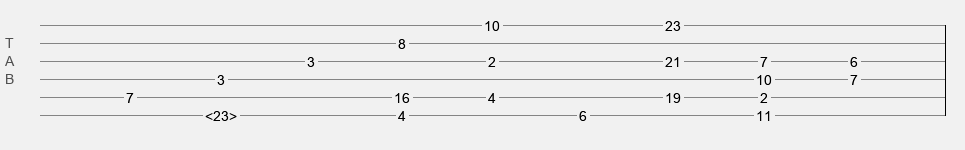10: (484, 18, 500, 28), (756, 72, 772, 82)
11: (756, 108, 772, 118)
16: (394, 90, 410, 100)
19: (665, 90, 681, 100)
2: (488, 54, 496, 64), (760, 90, 768, 100)
21: (665, 54, 681, 64)
23: (665, 18, 681, 28)
3: (217, 72, 225, 82), (307, 54, 315, 64)
4: (398, 108, 406, 118), (488, 90, 496, 100)
6: (579, 108, 587, 118), (850, 54, 858, 64)
7: (126, 90, 134, 100), (760, 54, 768, 64), (850, 72, 858, 82)
8: (398, 36, 406, 46)
harmonic: (205, 108, 237, 118)
